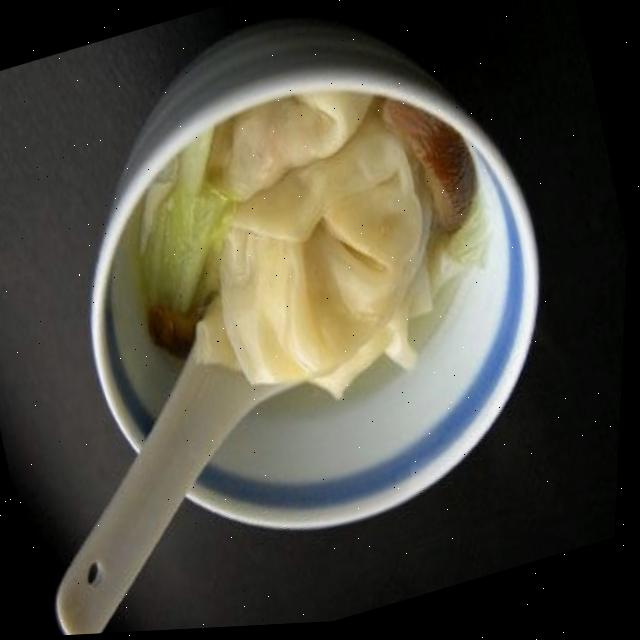汤锅炖物: (0, 0, 594, 614)
